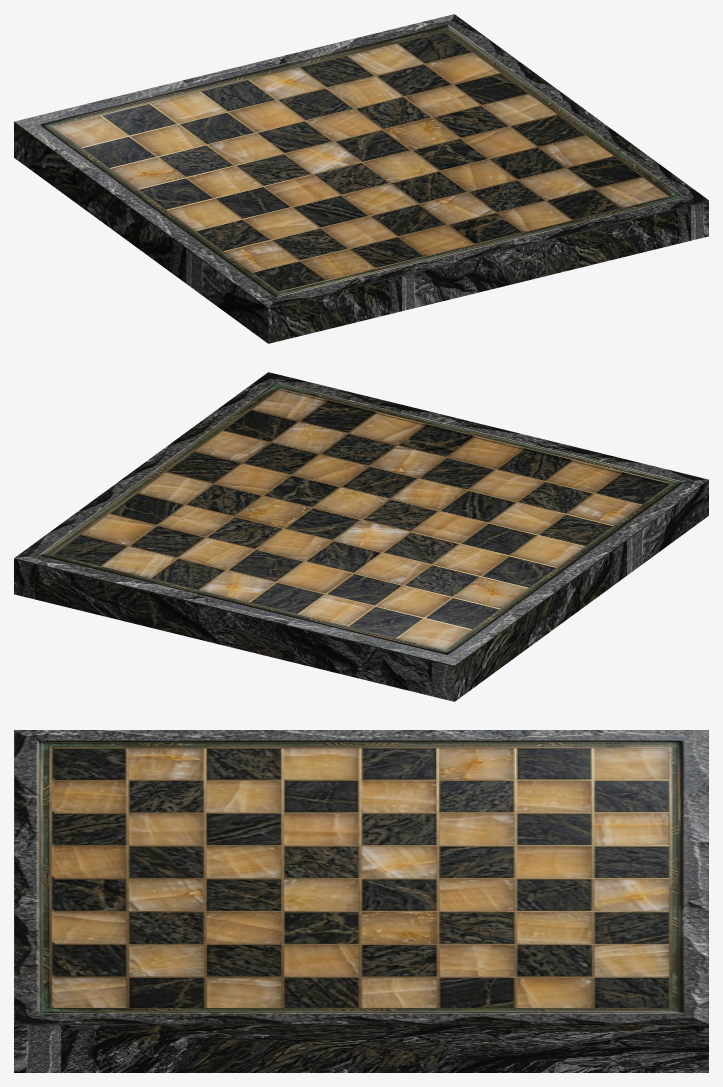
File: plansza.glb
3 views of the same model, one above another, from view 1: azimuth 30°, elevation 25°; view 2: azimuth 150°, elevation 25°; view 3: azimuth 270°, elevation 25° (orthographic). The views are drawn at different scales.
Parts seen in each view (by area): view 1: board; view 2: board; view 3: board.
Boxes of the visible parts, x1,y1,x2,y2 form: board: (14,14,708,343); board: (14,372,708,701); board: (14,730,708,1072).
Bounding box in the file's own units: 10.4 × 0.8138 × 10.4.
3 materials, 3 textured.
